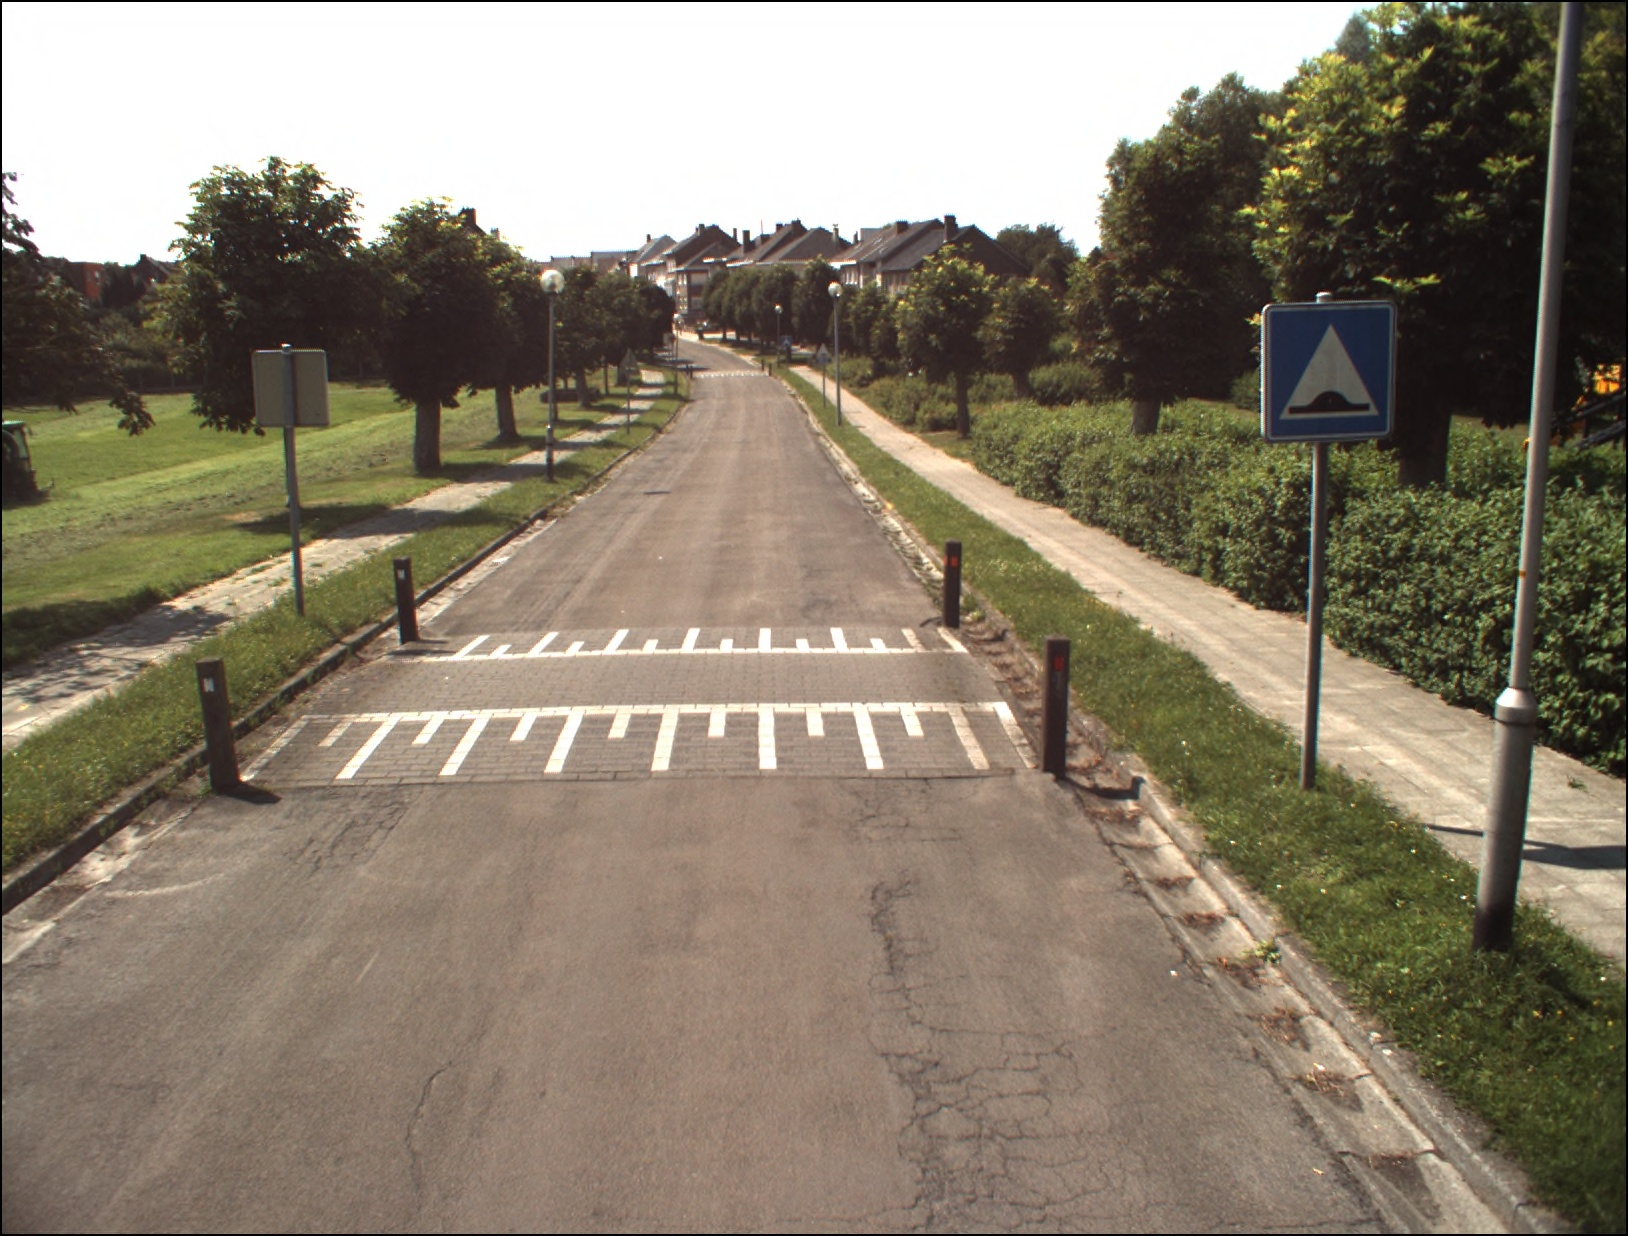speedbump: (1259, 303, 1400, 434)
